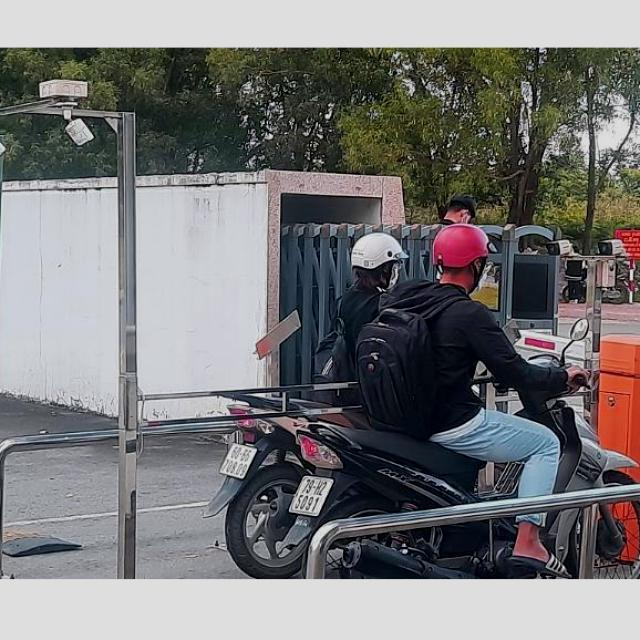Helmet: (431, 226, 497, 286), (346, 232, 406, 288)
